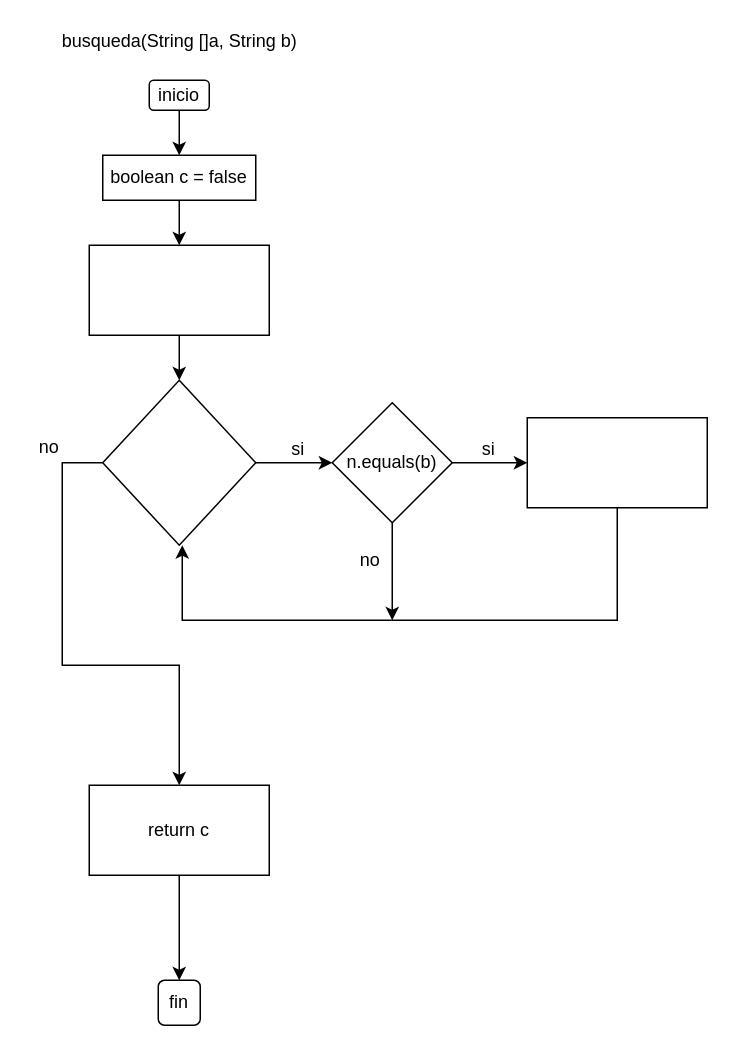
This 734x1052 diagram has some shape labels left out. Here are the shapes that lost their labels. From the top down, the centre of each, then its label:
At (x=178, y=289): "for (String n:a)".
At (x=178, y=462): "hay siguiente elemento?".
At (x=616, y=462): "c = true".
